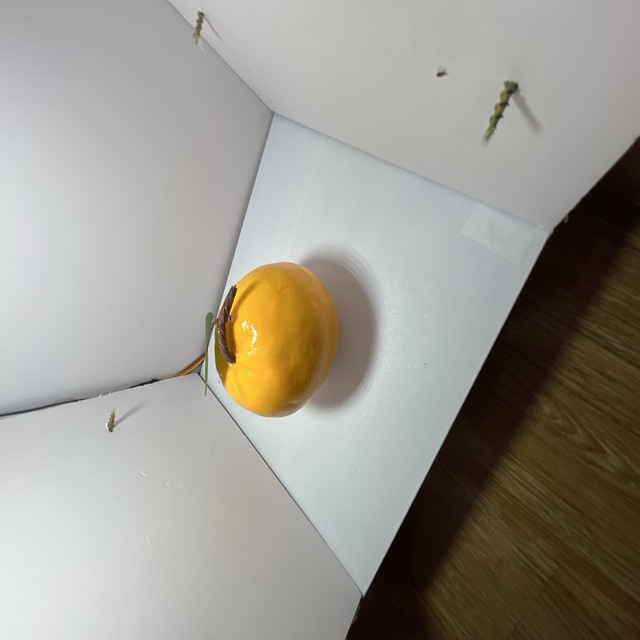Cam vang: (205, 262, 344, 421)
